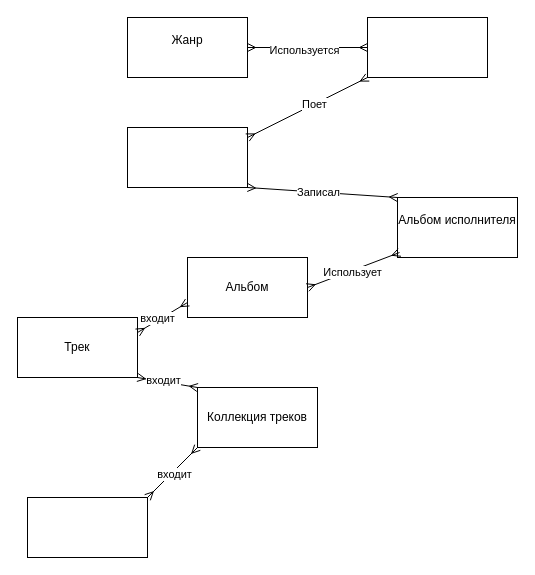
The diagram is 535 pixels wide and 575 high, and some of its shapes have lost their labels. The shapes that lost their labels are listed below. From the top down, each one's box as (x1, y1, x2, y2) in pixels, then its label:
(366, 16, 488, 78): Жанр исполнителя
(126, 126, 248, 188): Исполнитель
(26, 496, 148, 558): Коллекция
